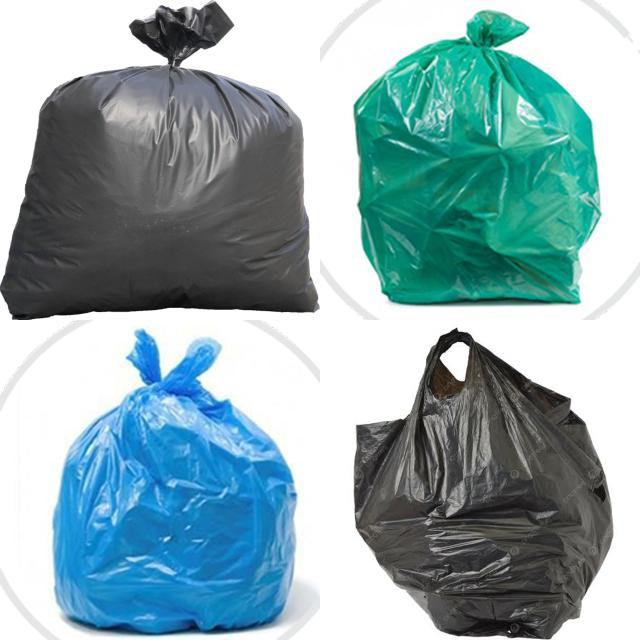Single-layer Plastic: (1, 1, 318, 319), (355, 330, 612, 639), (54, 330, 296, 634), (355, 11, 600, 304)
